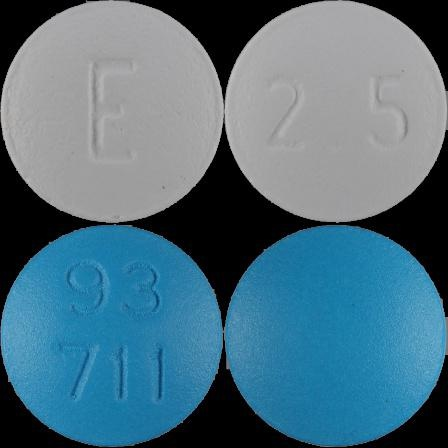63481-025: (0, 0, 224, 224)
